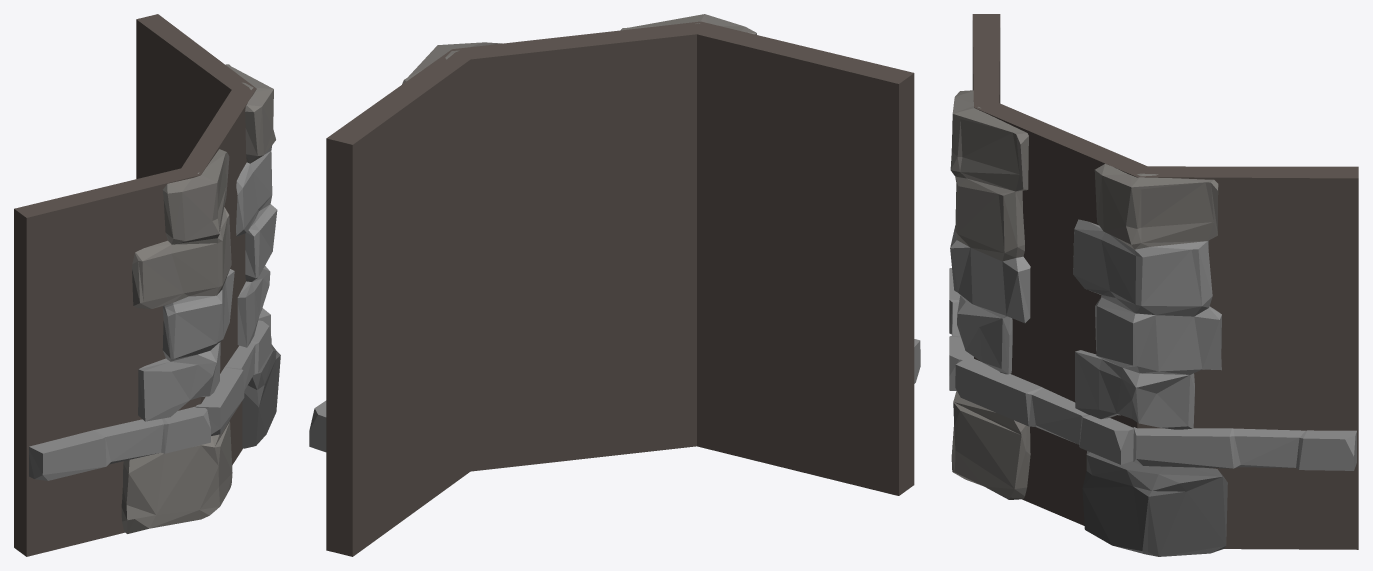
File: MCastle_OctWalls_Border_01.FBX
3 renders of one model, left to right at view 1: azimuth 30°, elevation 25°; view 2: azimuth 150°, elevation 25°; view 3: azimuth 270°, elevation 25°, orthographic. The views are drawn at different scales.
Parts seen in each view (by area): view 1: MCastle_OctWalls_Border_01_LOD0; view 2: MCastle_OctWalls_Border_01_LOD0; view 3: MCastle_OctWalls_Border_01_LOD0.
Boxes of the visible parts, x1,y1,x2,y2 form: MCastle_OctWalls_Border_01_LOD0: (14,14,280,556); MCastle_OctWalls_Border_01_LOD0: (309,14,920,556); MCastle_OctWalls_Border_01_LOD0: (949,14,1358,556).
Size of what is drawn, in the model's own units: 4.61 by 4.47 by 4.46.
